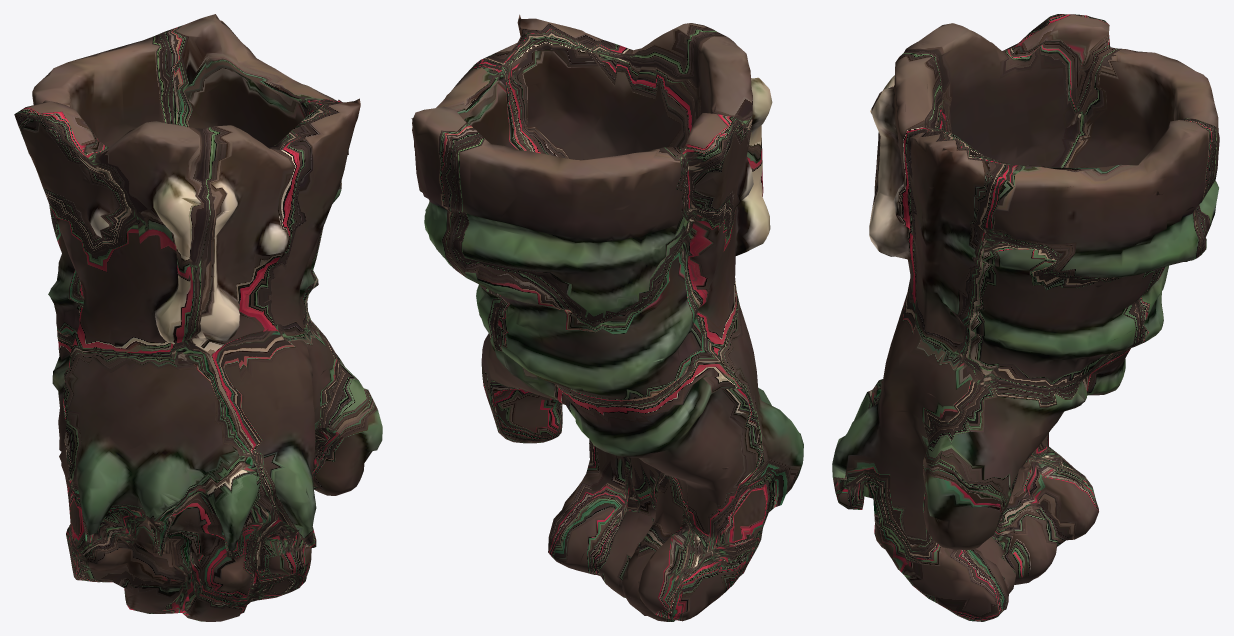
File: totem_glove_A.glb
3 views of the same model, side by side, from view 1: azimuth 30°, elevation 25°; view 2: azimuth 150°, elevation 25°; view 3: azimuth 270°, elevation 25° (orthographic). The views are drawn at different scales.
Bounding box in the file's own units: 0.1812 × 0.3123 × 0.2025.
Materials: 1 (1 with a texture image).
